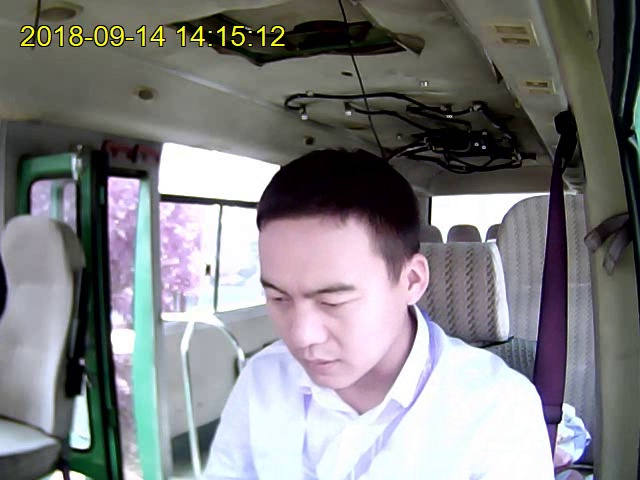closed_mouth: (294, 356, 343, 373)
